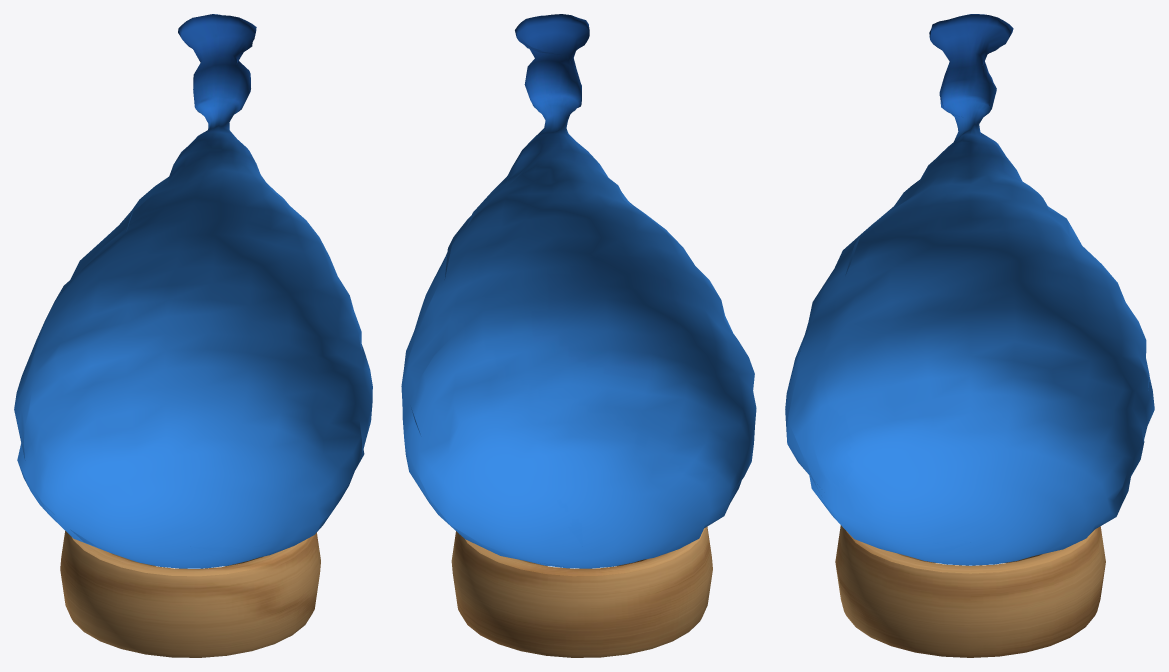
Rendered from balloon_s.glb.
3 views of the same model, side by side, from view 1: azimuth 30°, elevation 25°; view 2: azimuth 150°, elevation 25°; view 3: azimuth 270°, elevation 25° (orthographic). The views are drawn at different scales.
Parts seen in each view (by area): view 1: balloon, stand; view 2: balloon, stand; view 3: balloon, stand.
Part boxes in pixels (box(x1,y1,x2,y2)): balloon: box(14, 14, 372, 568); stand: box(60, 530, 320, 657); balloon: box(401, 14, 756, 568); stand: box(451, 526, 712, 657); balloon: box(785, 14, 1154, 565); stand: box(835, 525, 1105, 657).
Bounding box in the file's own units: 0.0695 × 0.1221 × 0.0688.
2 materials, 2 textured.
